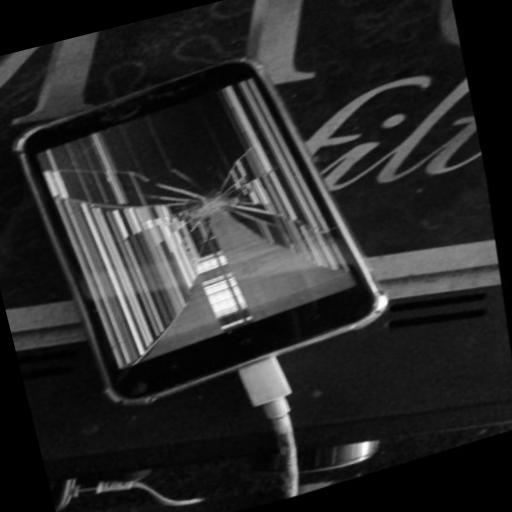phone: (9, 45, 402, 407)
